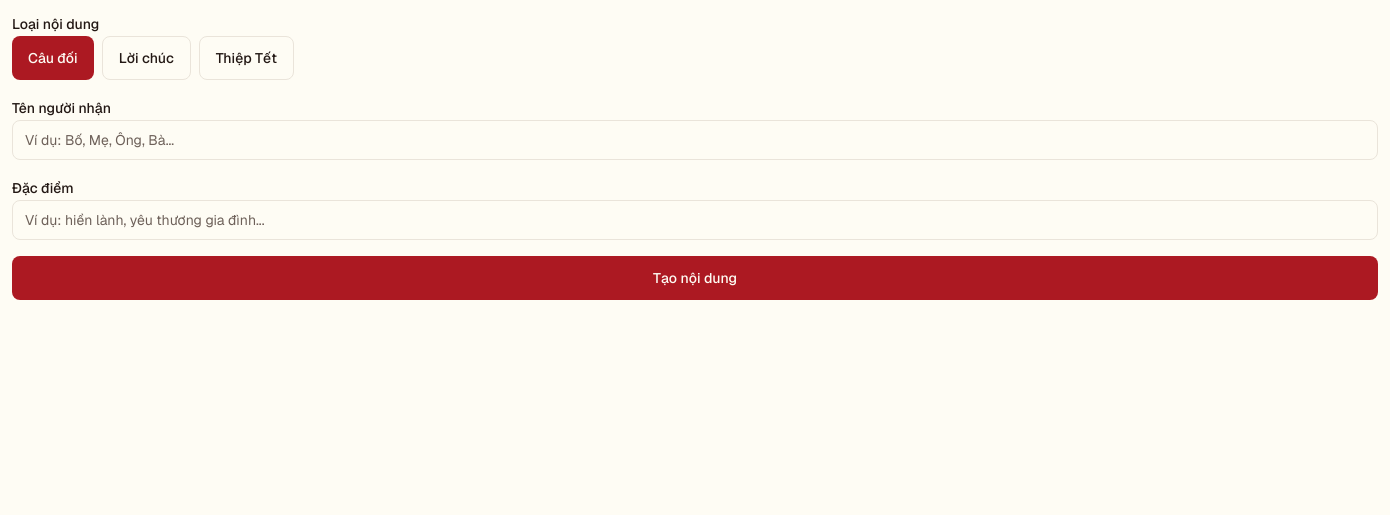
AIContentForm Unit Tests › Success Flow › should display generated content on success
Step 1. Type "Bố" into the field labelled "Tên người nhận" → (695, 140), box [12, 120, 1378, 160]
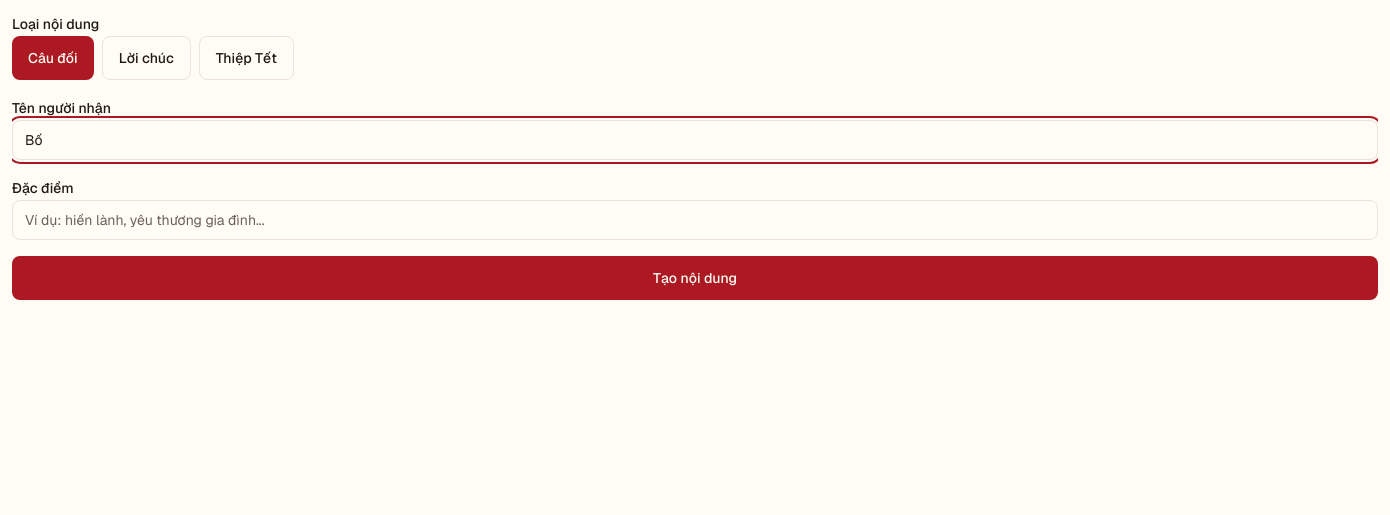
Step 2. Type "hiền lành" into the field labelled "Đặc điểm" → (695, 220), box [12, 200, 1378, 240]
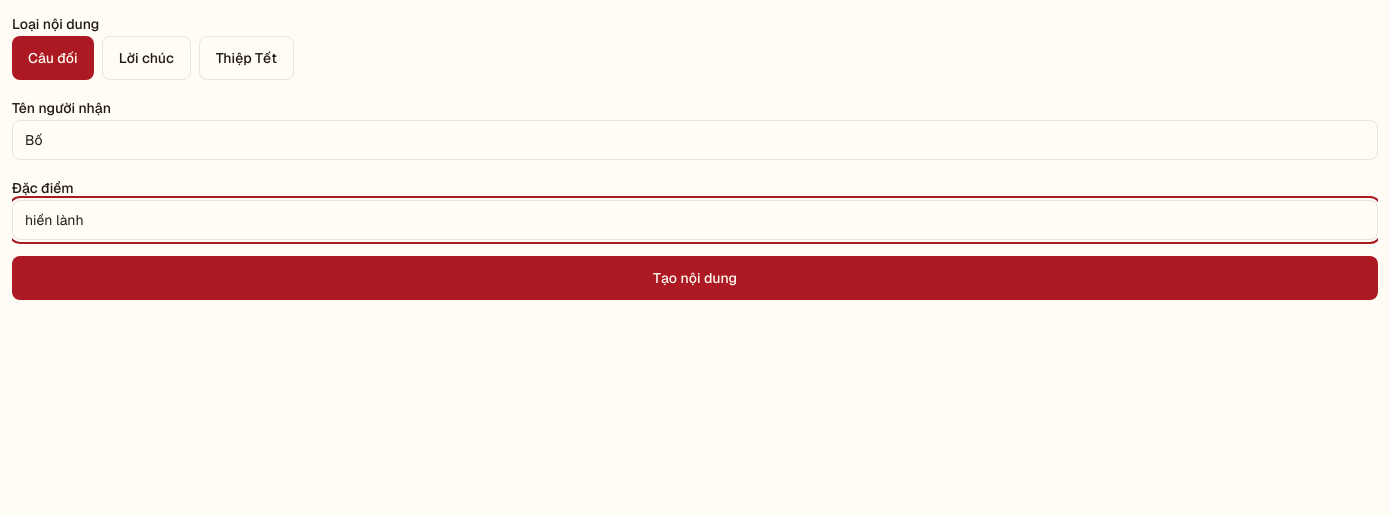
Step 3. Click the button "Tạo nội dung" → (695, 278), box [12, 256, 1378, 300]
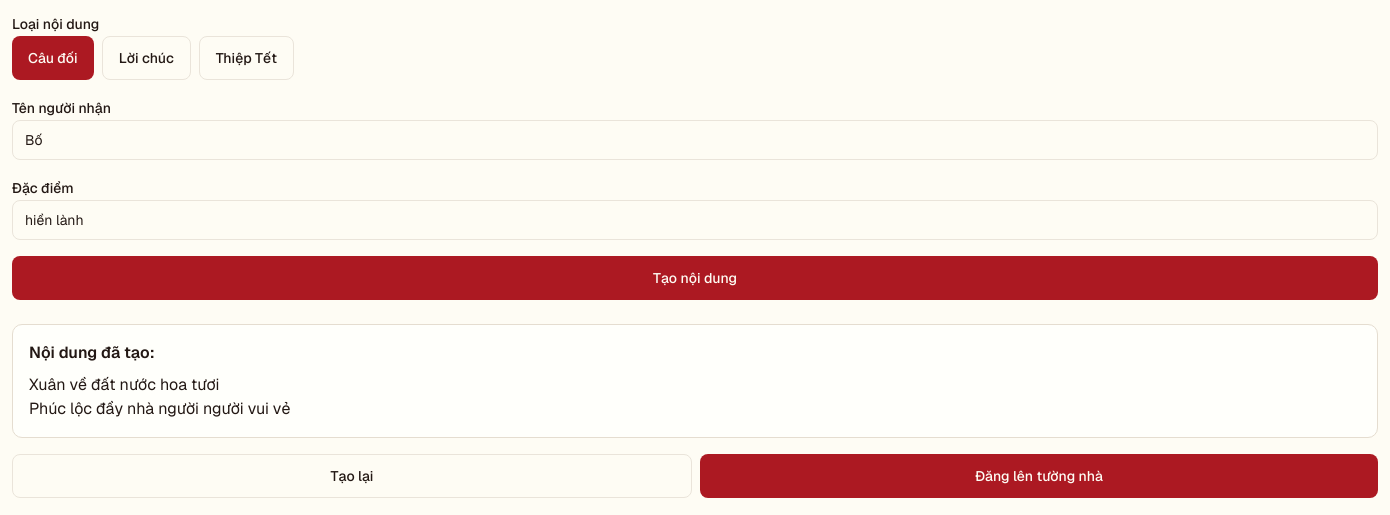
Expected: the heading "Nội dung đã tạo:" is shown, [29, 342, 155, 363]
